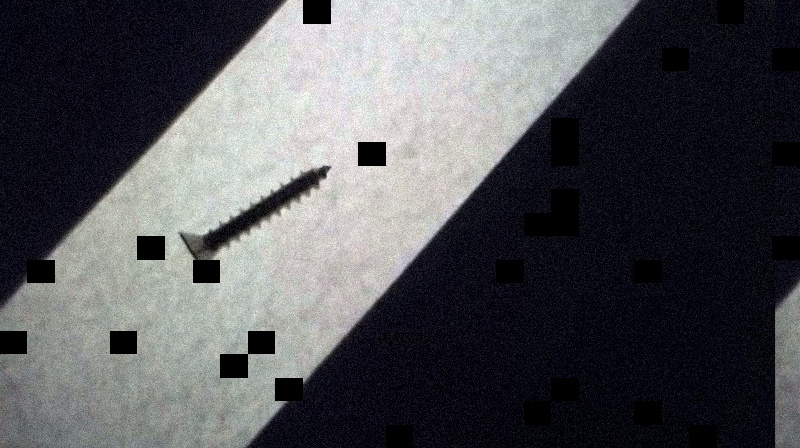S001: (172, 161, 335, 281)
